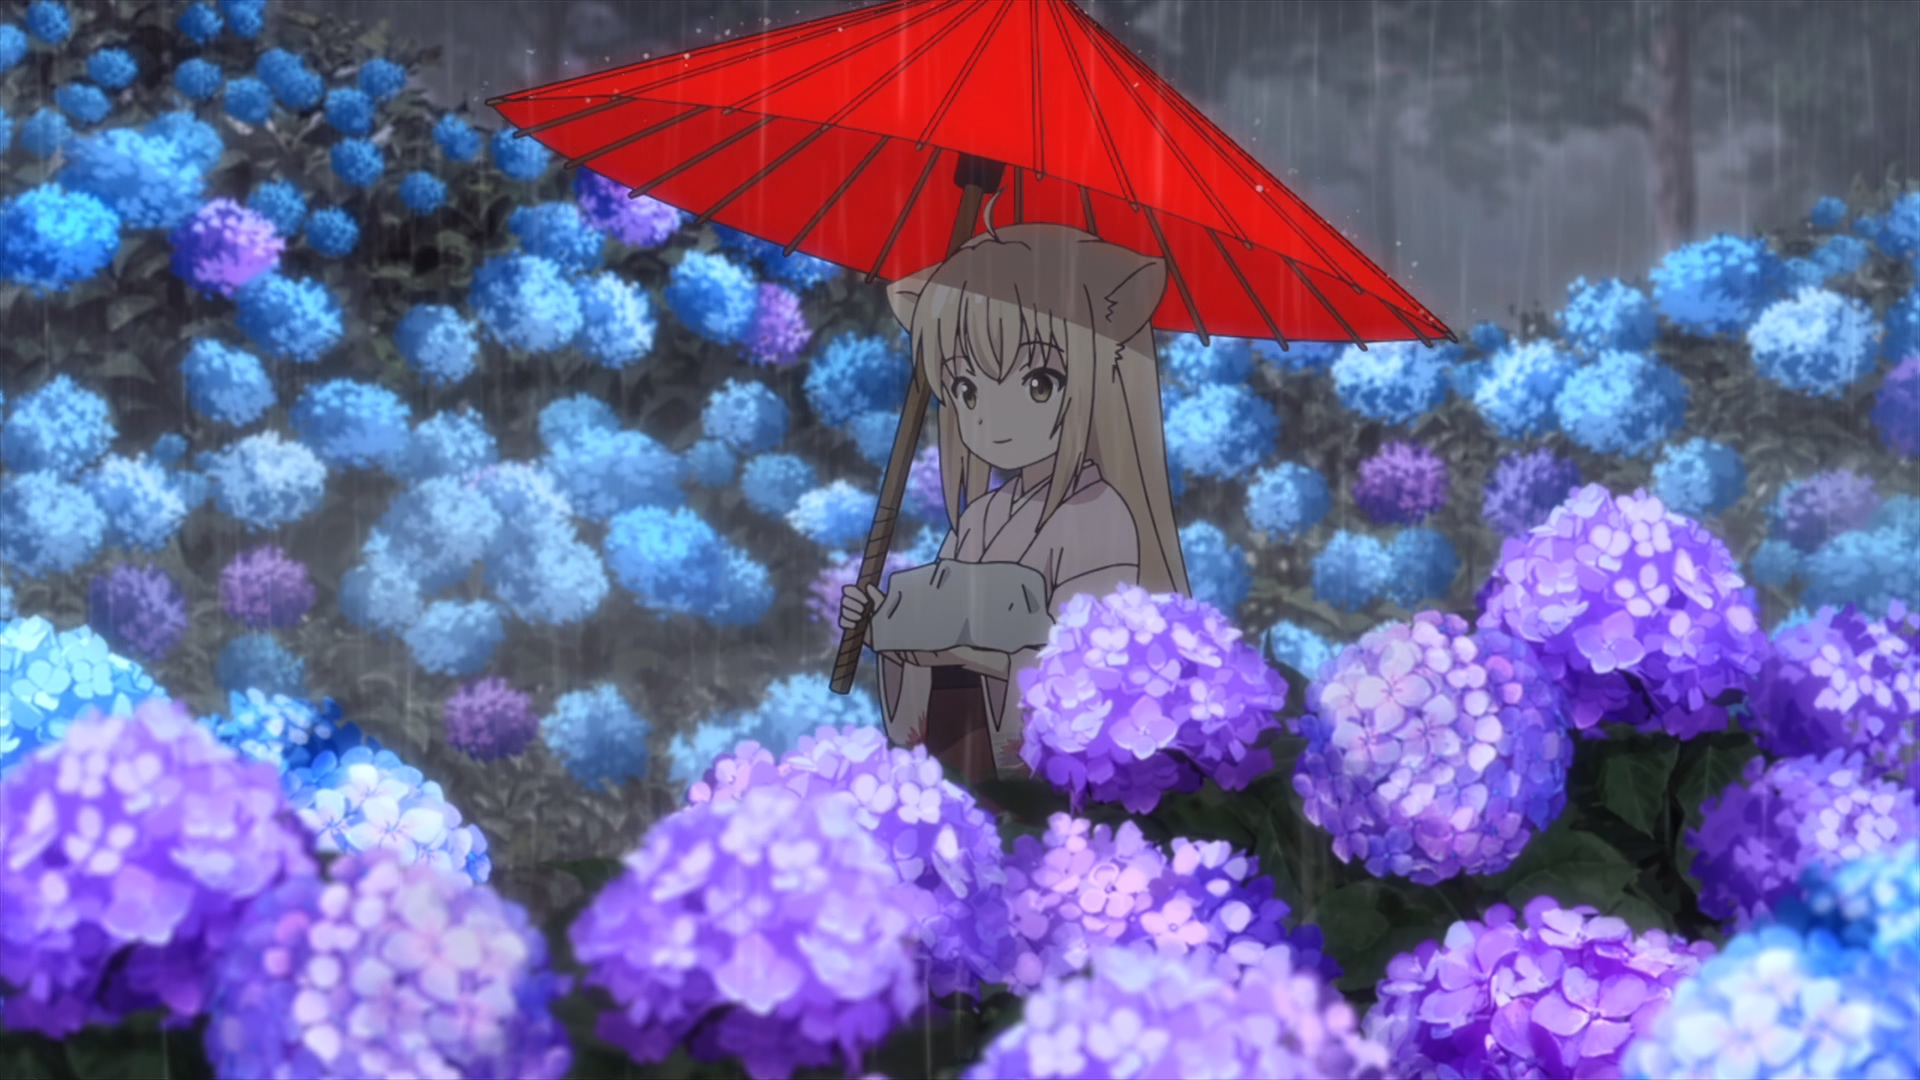柚: (841, 189, 1192, 822)
